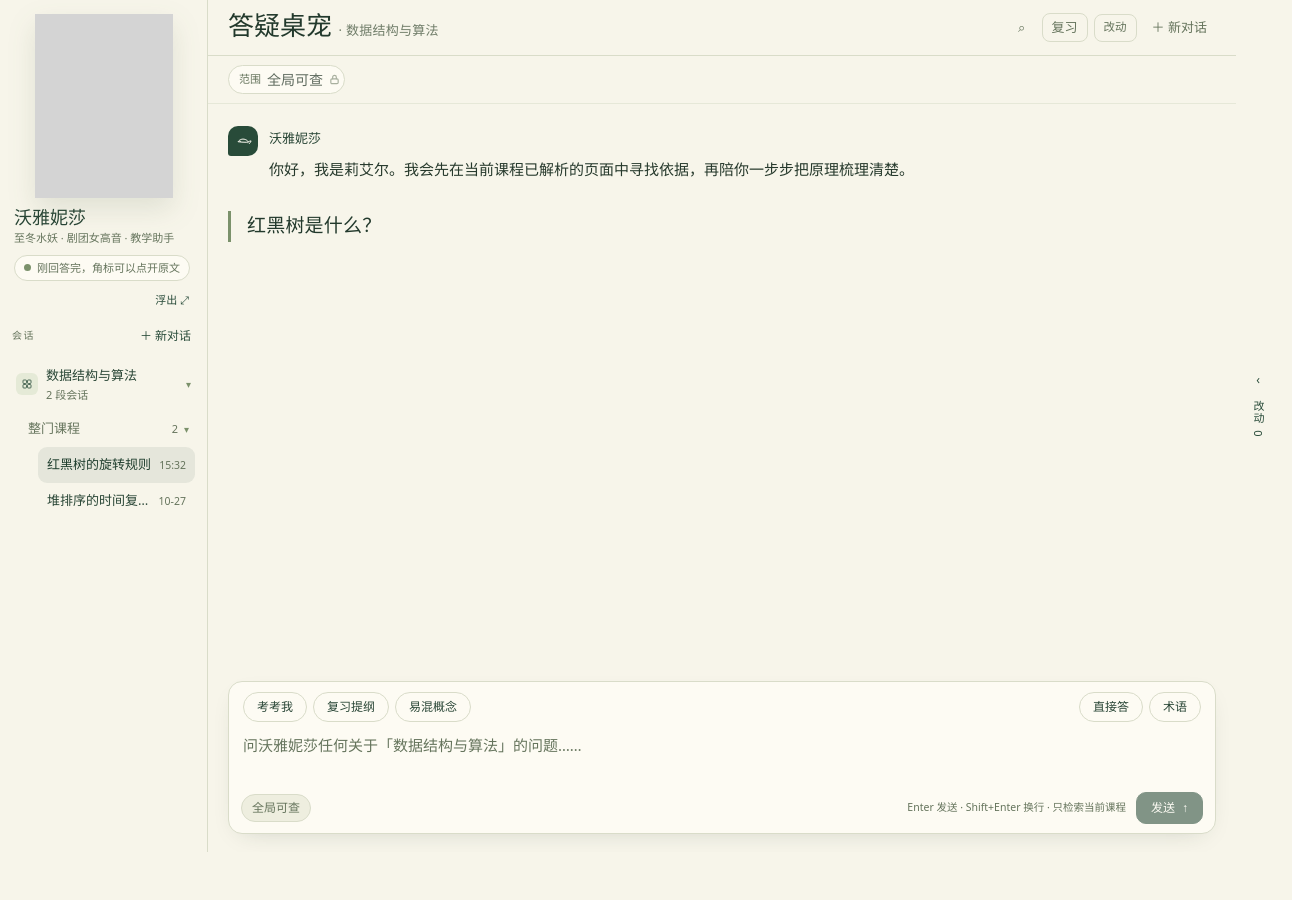
Test case: 会话一旦有消息，范围锁定：点击只给提示，菜单不再打开
The width and height of the screenshot is (1292, 900).
Click the button titled "对话已开始回答，范围已锁定；点「＋新对话」可重新选择" next to "范围".
click(304, 80)  # box [267, 68, 340, 91]
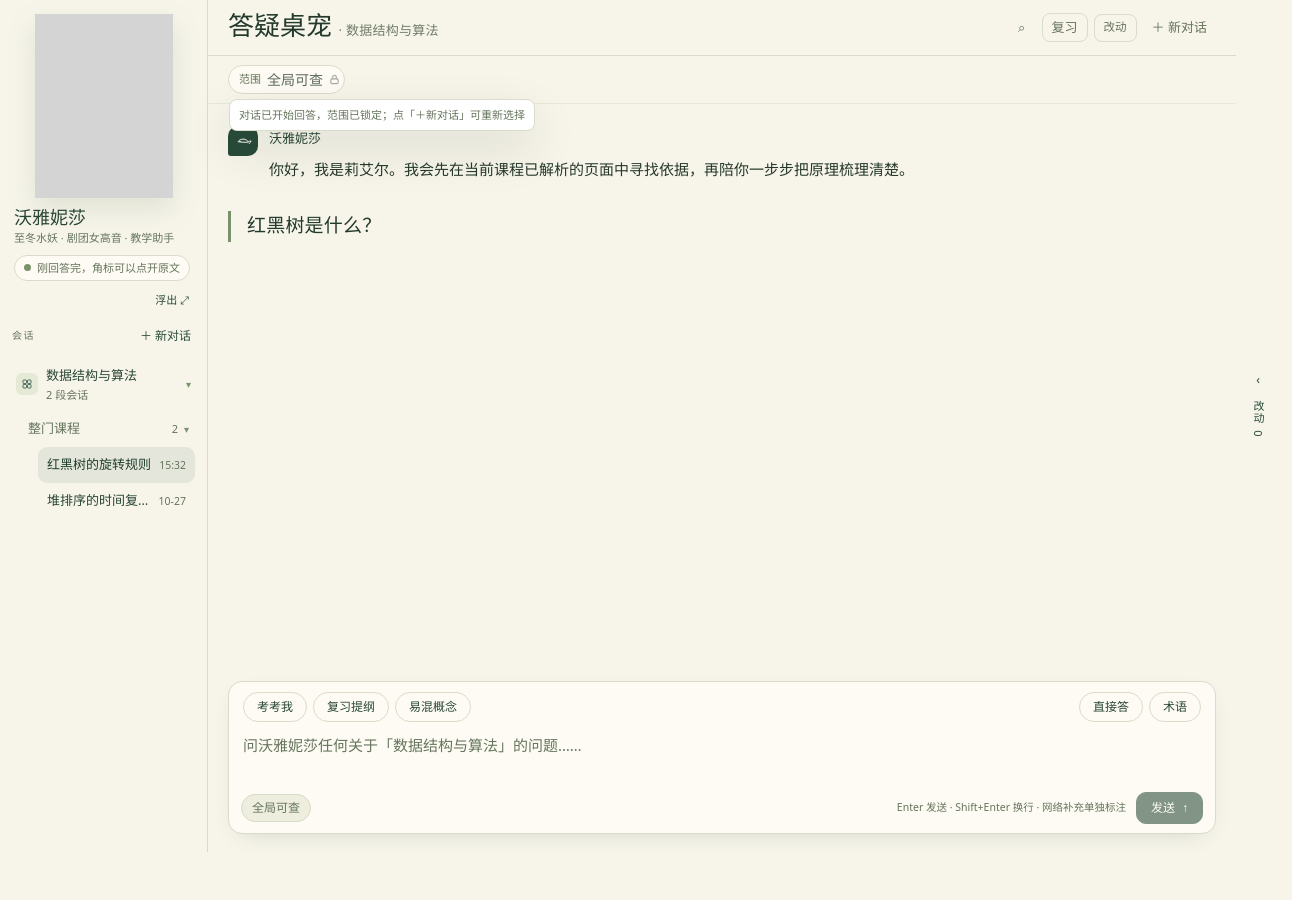
Now the text "对话已开始回答，范围已锁定；点「＋新对话」可重新选择" is shown, box [229, 99, 535, 131]
